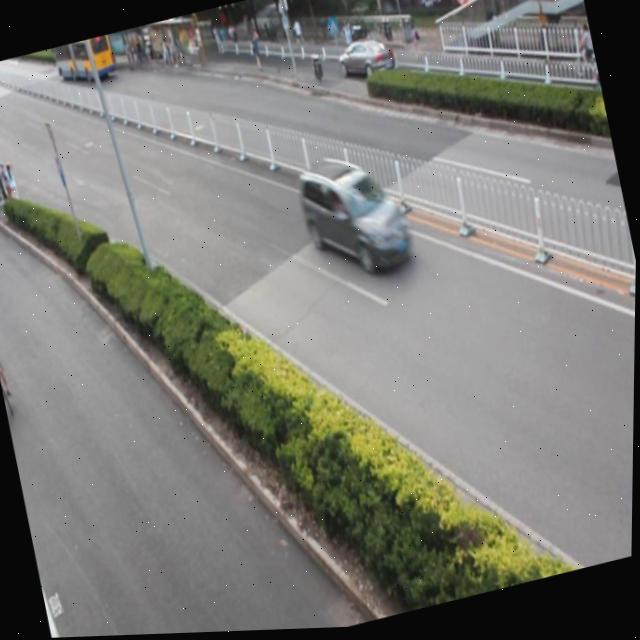car: (293, 146, 417, 291), (333, 32, 398, 95)
